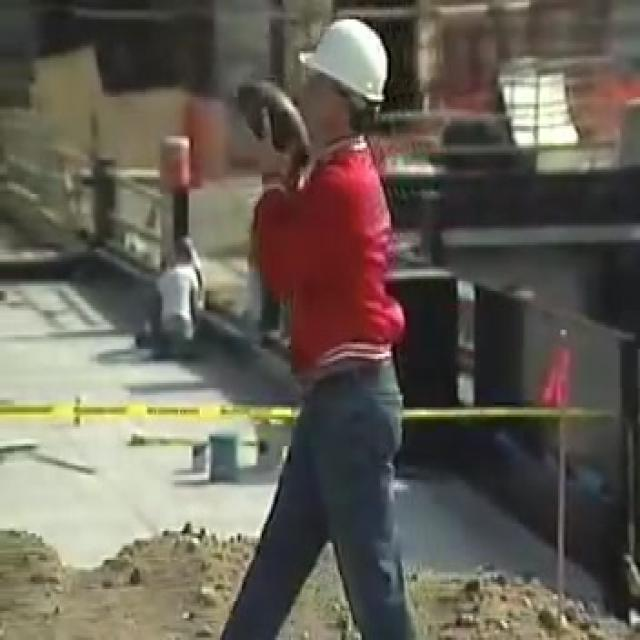reflective_jacket: (251, 133, 413, 416)
safety_helmet: (292, 7, 403, 121)
